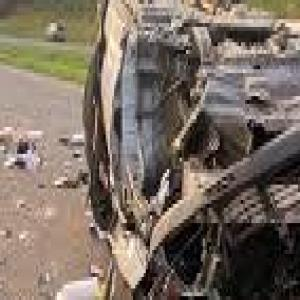critical: (80, 0, 300, 300)
